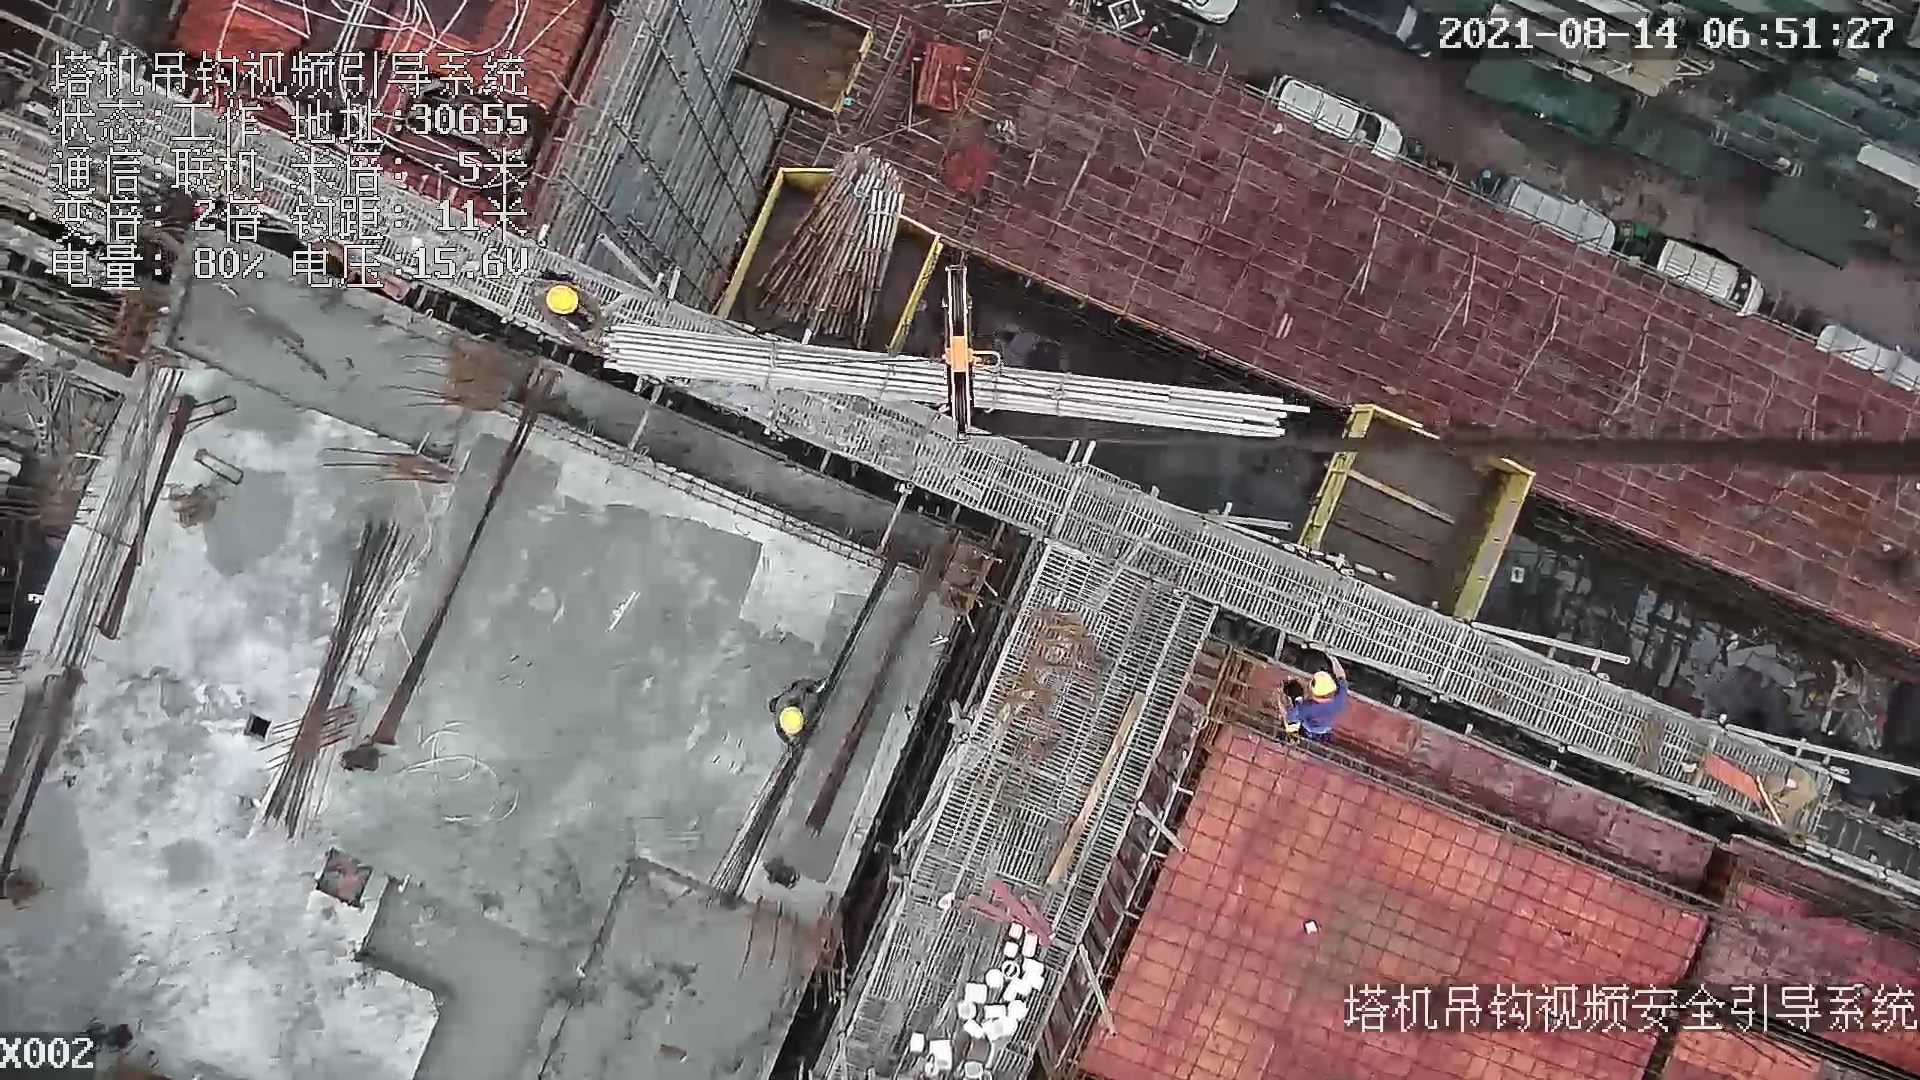helmet: (546, 283, 581, 315), (1307, 670, 1341, 696), (776, 706, 805, 734)
hook: (935, 259, 1003, 436)
person: (1278, 650, 1355, 739), (527, 281, 608, 353), (765, 671, 826, 750)
rebar: (608, 323, 1313, 442), (262, 514, 427, 834)
scaffold: (754, 145, 906, 349)
